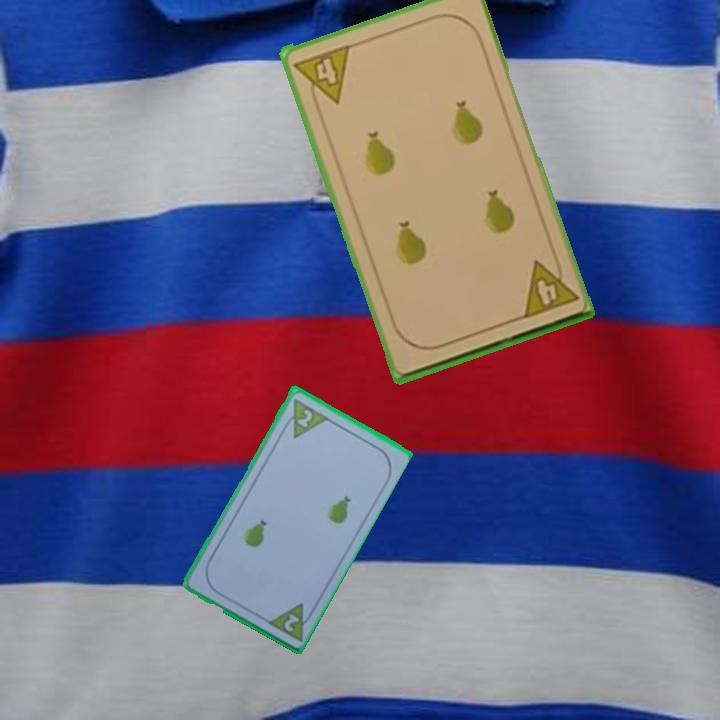2p: (263, 599, 317, 644), (293, 405, 316, 430)
4p: (290, 41, 353, 112), (518, 251, 581, 322)
